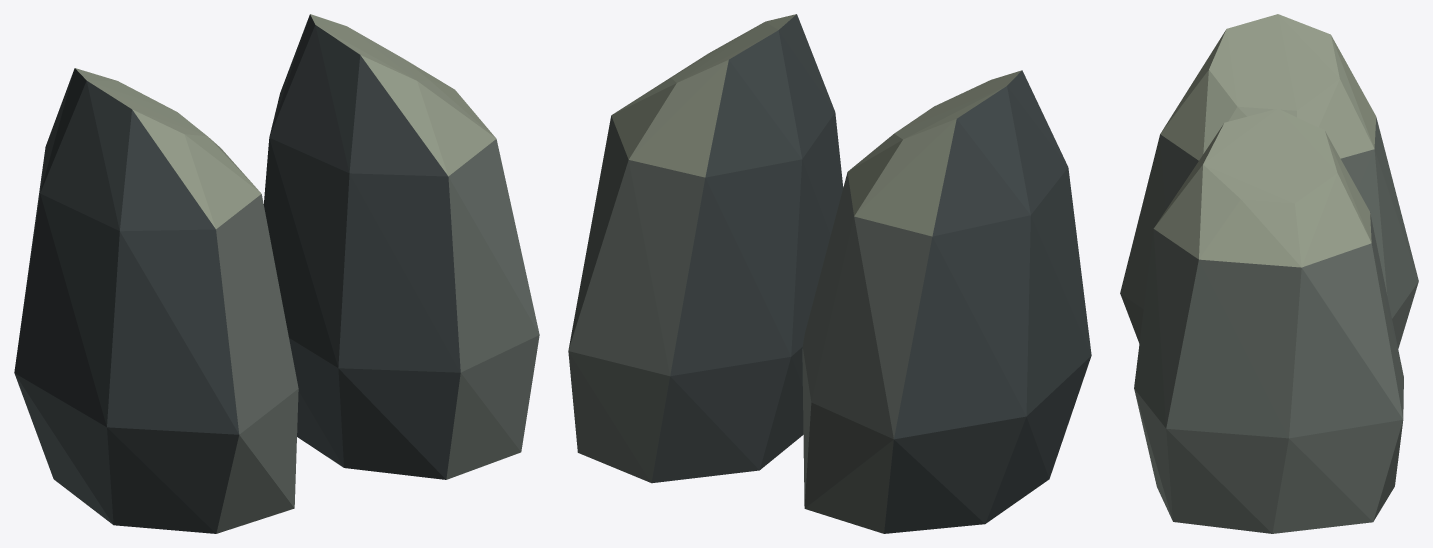
The model's file is TW_ROCK_SPLIT_MASS_A_LOD0.glb.
3 views of the same model, side by side, from view 1: azimuth 30°, elevation 25°; view 2: azimuth 150°, elevation 25°; view 3: azimuth 270°, elevation 25° (orthographic). The views are drawn at different scales.
Parts seen in each view (by area): view 1: TW_ROCK_SPLIT_MASS_A_LOD0; view 2: TW_ROCK_SPLIT_MASS_A_LOD0; view 3: TW_ROCK_SPLIT_MASS_A_LOD0.
Part boxes in pixels (left/top/right/bottom): TW_ROCK_SPLIT_MASS_A_LOD0: left=14, top=14, right=539, bottom=533; TW_ROCK_SPLIT_MASS_A_LOD0: left=568, top=14, right=1091, bottom=533; TW_ROCK_SPLIT_MASS_A_LOD0: left=1120, top=14, right=1418, bottom=533.
Bounding box in the file's own units: 1.26 × 1.1 × 0.8418.
1 material, 1 textured.
